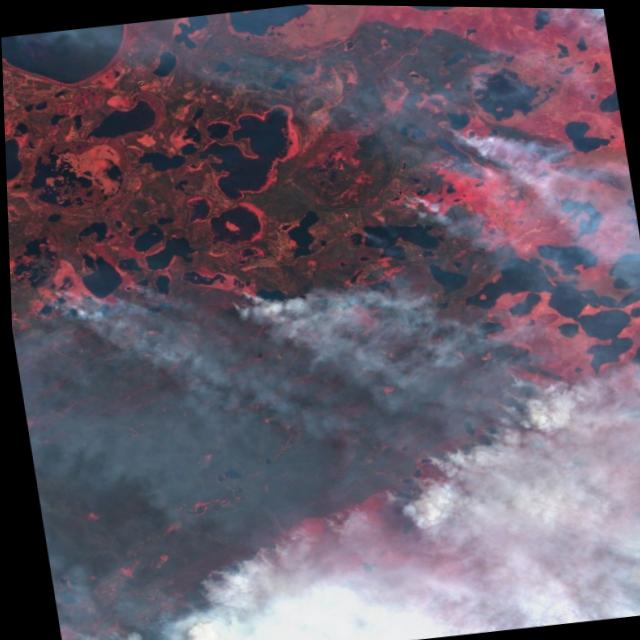fire: (18, 330, 640, 640), (379, 103, 548, 223), (17, 267, 179, 341), (218, 257, 345, 348)
